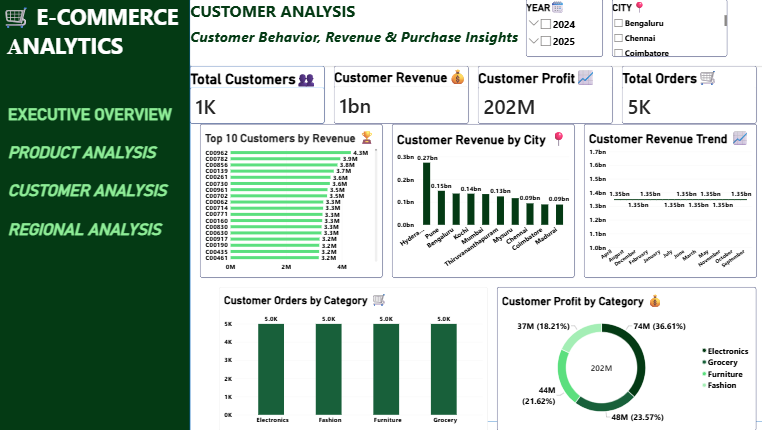

The dashboard page shown, as its layout file describes it:
{"tool":"powerbi","page":{"name":"CUSTOMER ANALYSIS","canvas":[2560,1440],"ordinal":4},"visuals":[{"type":"shape","box":[0,0,640,1440],"z":0},{"type":"textbox","box":[10,10,800,224],"z":1000},{"type":"shape","title":"PRODUCT ANALYSIS","box":[32,480,640,64],"z":2000},{"type":"shape","title":"CUSTOMER ANALYSIS","box":[32,608,640,64],"z":3000},{"type":"shape","title":"REGIONAL ANALYSIS","box":[32,736,608,64],"z":4000},{"type":"shape","title":"EXECUTIVE OVERVIEW","box":[32,352,640,64],"z":5000},{"type":"textbox","box":[100,100,300,300],"z":6000},{"type":"shape","box":[640,0,1920,1440],"z":7000},{"type":"textbox","box":[110,110,300,300],"z":8000},{"type":"shape","box":[768,1408,1792,32],"z":9000},{"type":"textbox","box":[640,0,1920,224],"z":10000},{"type":"slicer","title":"YEAR🗓️","fields":{"Values":["Calendar.Year","Calendar.Quarter","Calendar.Month"]},"box":[1760,0,256,192],"z":11000},{"type":"slicer","title":"CITY📍","fields":{"Values":["Customers.City"]},"box":[2048,0,384,192],"z":12000},{"type":"cardVisual","title":"Total Customers👥","fields":{"Data":["Customers.Total Customers"]},"box":[640,224,448,192],"z":13000},{"type":"cardVisual","title":"Customer Revenue💰","fields":{"Data":["Customers.Customer Revenue"]},"box":[1120,224,448,192],"z":14000},{"type":"cardVisual","title":"Customer Profit📈","fields":{"Data":["Customers.Customer Profit"]},"box":[1600,224,448,192],"z":15000},{"type":"cardVisual","title":"Total Orders🛒","fields":{"Data":["Orders.Total Orders"]},"box":[2080,224,448,192],"z":16000},{"type":"clusteredBarChart","title":"Top 10 Customers by Revenue 🏆","fields":{"Category":["Customers.CustomerID"],"Y":["Customers.Customer Revenue"]},"box":[672,416,608,512],"z":17000},{"type":"clusteredColumnChart","title":"Customer Revenue by City 📍","fields":{"Category":["Customers.City"],"Y":["Customers.Customer Revenue"]},"box":[1312,416,608,512],"z":18000},{"type":"lineChart","title":"Customer Revenue Trend 📈","fields":{"Category":["Calendar.Month"],"Y":["Customers.Customer Revenue"]},"box":[1952,416,576,512],"z":19000},{"type":"donutChart","title":"Customer Profit by Category 💰","fields":{"Category":["Products.Category"],"Y":["Customers.Customer Profit"]},"box":[1664,960,864,480],"z":20000},{"type":"clusteredColumnChart","title":"Customer Orders by Category 🛒","fields":{"Category":["Products.Category"],"Y":["Customers.Customer Orders"]},"box":[736,960,896,480],"z":21000}]}

Visuals, with their boxes in screenshot pixels (x1, y1, x2, y2), scaled from the page's 2560x1440 canvas onto the 762x430 screenshot:
shape: 0:0:190:429
textbox: 3:3:241:70
"PRODUCT ANALYSIS" shape: 10:143:200:162
"CUSTOMER ANALYSIS" shape: 10:182:200:201
"REGIONAL ANALYSIS" shape: 10:220:190:239
"EXECUTIVE OVERVIEW" shape: 10:105:200:124
textbox: 30:30:119:119
shape: 190:0:761:429
textbox: 33:33:122:122
shape: 229:420:761:429
textbox: 190:0:761:67
"YEAR🗓️" slicer: 524:0:600:57
"CITY📍" slicer: 610:0:724:57
"Total Customers👥" cardVisual: 190:67:324:124
"Customer Revenue💰" cardVisual: 333:67:467:124
"Customer Profit📈" cardVisual: 476:67:610:124
"Total Orders🛒" cardVisual: 619:67:752:124
"Top 10 Customers by Revenue 🏆" clusteredBarChart: 200:124:381:277
"Customer Revenue by City 📍" clusteredColumnChart: 391:124:572:277
"Customer Revenue Trend 📈" lineChart: 581:124:752:277
"Customer Profit by Category 💰" donutChart: 495:287:752:429
"Customer Orders by Category 🛒" clusteredColumnChart: 219:287:486:429
